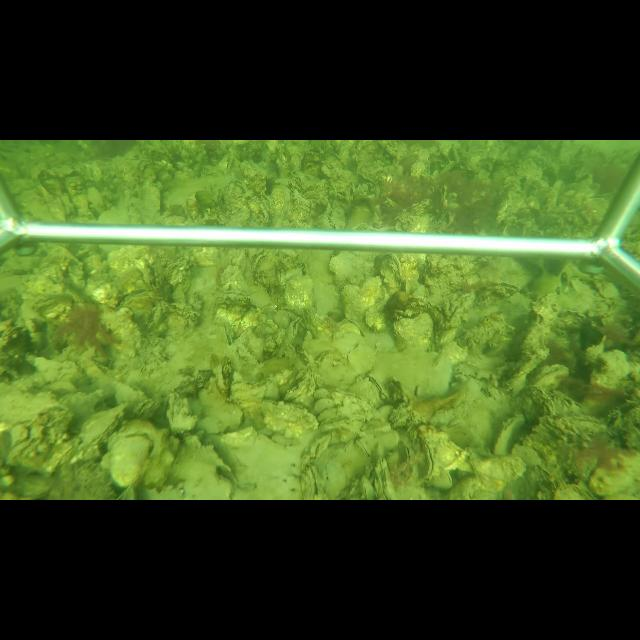Oyster-Closed: (107, 419, 157, 488), (250, 244, 306, 294), (260, 398, 318, 437), (210, 289, 250, 343), (83, 401, 131, 445), (0, 324, 32, 383), (394, 312, 434, 356), (404, 295, 444, 337), (522, 384, 556, 430), (494, 412, 526, 456), (283, 272, 315, 316), (166, 391, 196, 435), (443, 292, 475, 332), (416, 430, 439, 484), (373, 252, 403, 292), (163, 254, 193, 294), (534, 362, 570, 394), (373, 456, 395, 500), (331, 318, 365, 342), (431, 463, 453, 489), (355, 435, 373, 459), (359, 474, 375, 500)
Oyster-Open: (301, 460, 325, 500), (308, 434, 332, 464), (286, 316, 304, 344)
